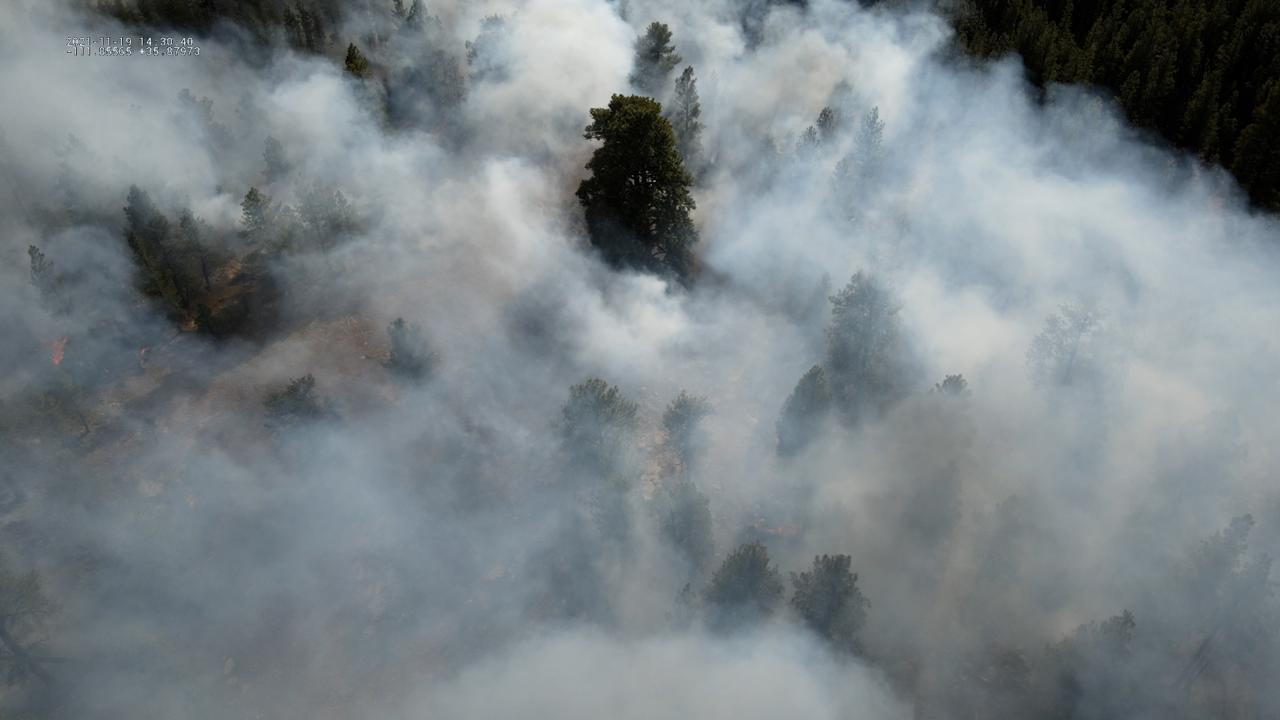fire: (46, 330, 69, 365), (139, 348, 145, 357)
smoke: (0, 0, 1280, 720)
